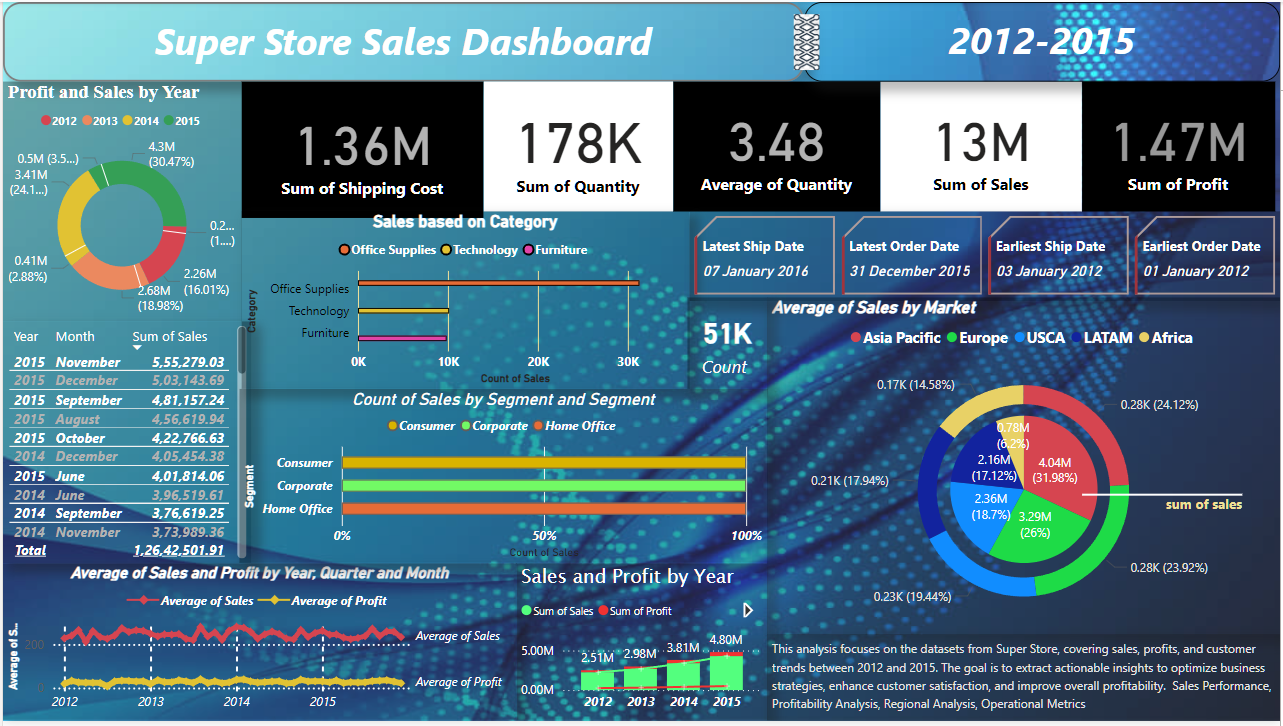

Layout of this report page (visuals, bound fields, positions):
{"tool":"powerbi","page":{"name":"Page 1","canvas":[1280,720],"ordinal":0},"visuals":[{"type":"textbox","box":[0,0,802.9,79.7],"z":0},{"type":"card","title":"2012","fields":{"Values":["Sum(Orders.Quantity)"]},"box":[481.7,79.7,190.1,130],"z":1000},{"type":"card","fields":{"Values":["Sum(Orders.Sales)"]},"box":[879.4,79.7,202.1,130],"z":2000},{"type":"card","fields":{"Values":["Avg(Orders.Quantity)"]},"box":[671.8,79.7,207.6,130],"z":3000},{"type":"card","fields":{"Values":["Sum(Orders.Shipping Cost)"]},"box":[239.2,79.7,242.5,136.5],"z":4000},{"type":"donutChart","title":"Profit and Sales by Year","fields":{"Category":["Orders.Order Date.Variation.Date Hierarchy.Year"],"Y":["Sum(Orders.Profit)","Sum(Orders.Sales)"]},"box":[0,79.7,239.2,240.3],"z":5000},{"type":"tableEx","fields":{"Values":["Orders.Order Date.Variation.Date Hierarchy.Year","Orders.Order Date.Variation.Date Hierarchy.Month","Sum(Orders.Sales)"]},"box":[0,320.1,249.1,242.5],"z":6000},{"type":"lineChart","title":"Average of Sales and Profit by Year, Quarter and Month","fields":{"Category":["Orders.Order Date.Variation.Date Hierarchy.Year","Orders.Order Date.Variation.Date Hierarchy.Quarter","Orders.Order Date.Variation.Date Hierarchy.Month","Orders.Order Date.Variation.Date Hierarchy.Day"],"Y":["Avg(Orders.Sales)","Avg(Orders.Profit)"]},"box":[0,562.6,514.5,157.3],"z":7000},{"type":"clusteredBarChart","title":"Sales based on Category ","fields":{"Category":["Orders.Category"],"Y":["CountNonNull(Orders.Sales)"],"Series":["Orders.Category"]},"box":[239.7,209.9,448.5,177.8],"z":8000},{"type":"hundredPercentStackedBarChart","fields":{"Y":["CountNonNull(Orders.Sales)"],"Category":["Orders.Segment"],"Series":["Orders.Segment"]},"box":[237.5,387.7,529.1,174.5],"z":9000},{"type":"cardVisual","fields":{"Data":["Max(Orders.Ship Date)","Max(Orders.Order Date)","Min(Orders.Ship Date)1","Min(Orders.Order Date)1"]},"box":[688.2,209.7,592.1,89.6],"z":10000},{"type":"pieChart","fields":{"Y":["Avg(Orders.Sales)"],"Category":["Orders.Market"]},"box":[765.8,296,514.5,337.6],"z":11000},{"type":"pieChart","fields":{"Category":["Orders.Market"],"Y":["Sum(Orders.Sales)"]},"box":[833.5,387.8,380.2,202.1],"z":12000},{"type":"shape","box":[1081.5,475.2,160.6,37.1],"z":13000},{"type":"card","fields":{"Values":["CountNonNull(Orders.Quantity)"]},"box":[686,296,79.7,91.8],"z":14000},{"type":"textbox","box":[802.9,0,477.4,79.7],"z":15000},{"type":"image","box":[726.4,7.6,157.3,65.5],"z":16000},{"type":"card","fields":{"Values":["Sum(Orders.Profit)"]},"box":[1081.5,79.7,193.4,130],"z":17000},{"type":"lineStackedColumnComboChart","title":"Sales and Profit by Year","fields":{"Y":["Sum(Orders.Sales)","Sum(Orders.Profit)"],"Category":["Orders.Order Date.Variation.Date Hierarchy.Year"],"Y2":["Sum(Orders.Profit)","Sum(Orders.Sales)"]},"box":[515,563,251,157],"z":18000},{"type":"textbox","box":[765.8,633.6,514.5,86.3],"z":19000}]}

Visuals, with their boxes in screenshot pixels (x1, y1, x2, y2), scaled from the page's 1280x720 canvas onto the 1283x726 screenshot:
textbox: 0:0:805:80
"2012" card: 483:80:673:211
card - Sum(Orders.Sales): 881:80:1084:211
card - Avg(Orders.Quantity): 673:80:881:211
card - Sum(Orders.Shipping Cost): 240:80:483:218
"Profit and Sales by Year" donutChart: 0:80:240:323
tableEx - Orders.Order Date.Variation.Date Hierarchy.Year x Orders.Order Date.Variation.Date Hierarchy.Month: 0:323:250:567
"Average of Sales and Profit by Year, Quarter and Month" lineChart: 0:567:516:725
"Sales based on Category " clusteredBarChart: 240:212:690:391
hundredPercentStackedBarChart - CountNonNull(Orders.Sales) x Orders.Segment: 238:391:768:567
cardVisual - Max(Orders.Ship Date) x Max(Orders.Order Date): 690:211:1282:302
pieChart - Avg(Orders.Sales) x Orders.Market: 768:298:1282:639
pieChart - Orders.Market x Sum(Orders.Sales): 835:391:1217:595
shape: 1084:479:1245:517
card - CountNonNull(Orders.Quantity): 688:298:767:391
textbox: 805:0:1282:80
image: 728:8:886:74
card - Sum(Orders.Profit): 1084:80:1278:211
"Sales and Profit by Year" lineStackedColumnComboChart: 516:568:768:725
textbox: 768:639:1282:725
